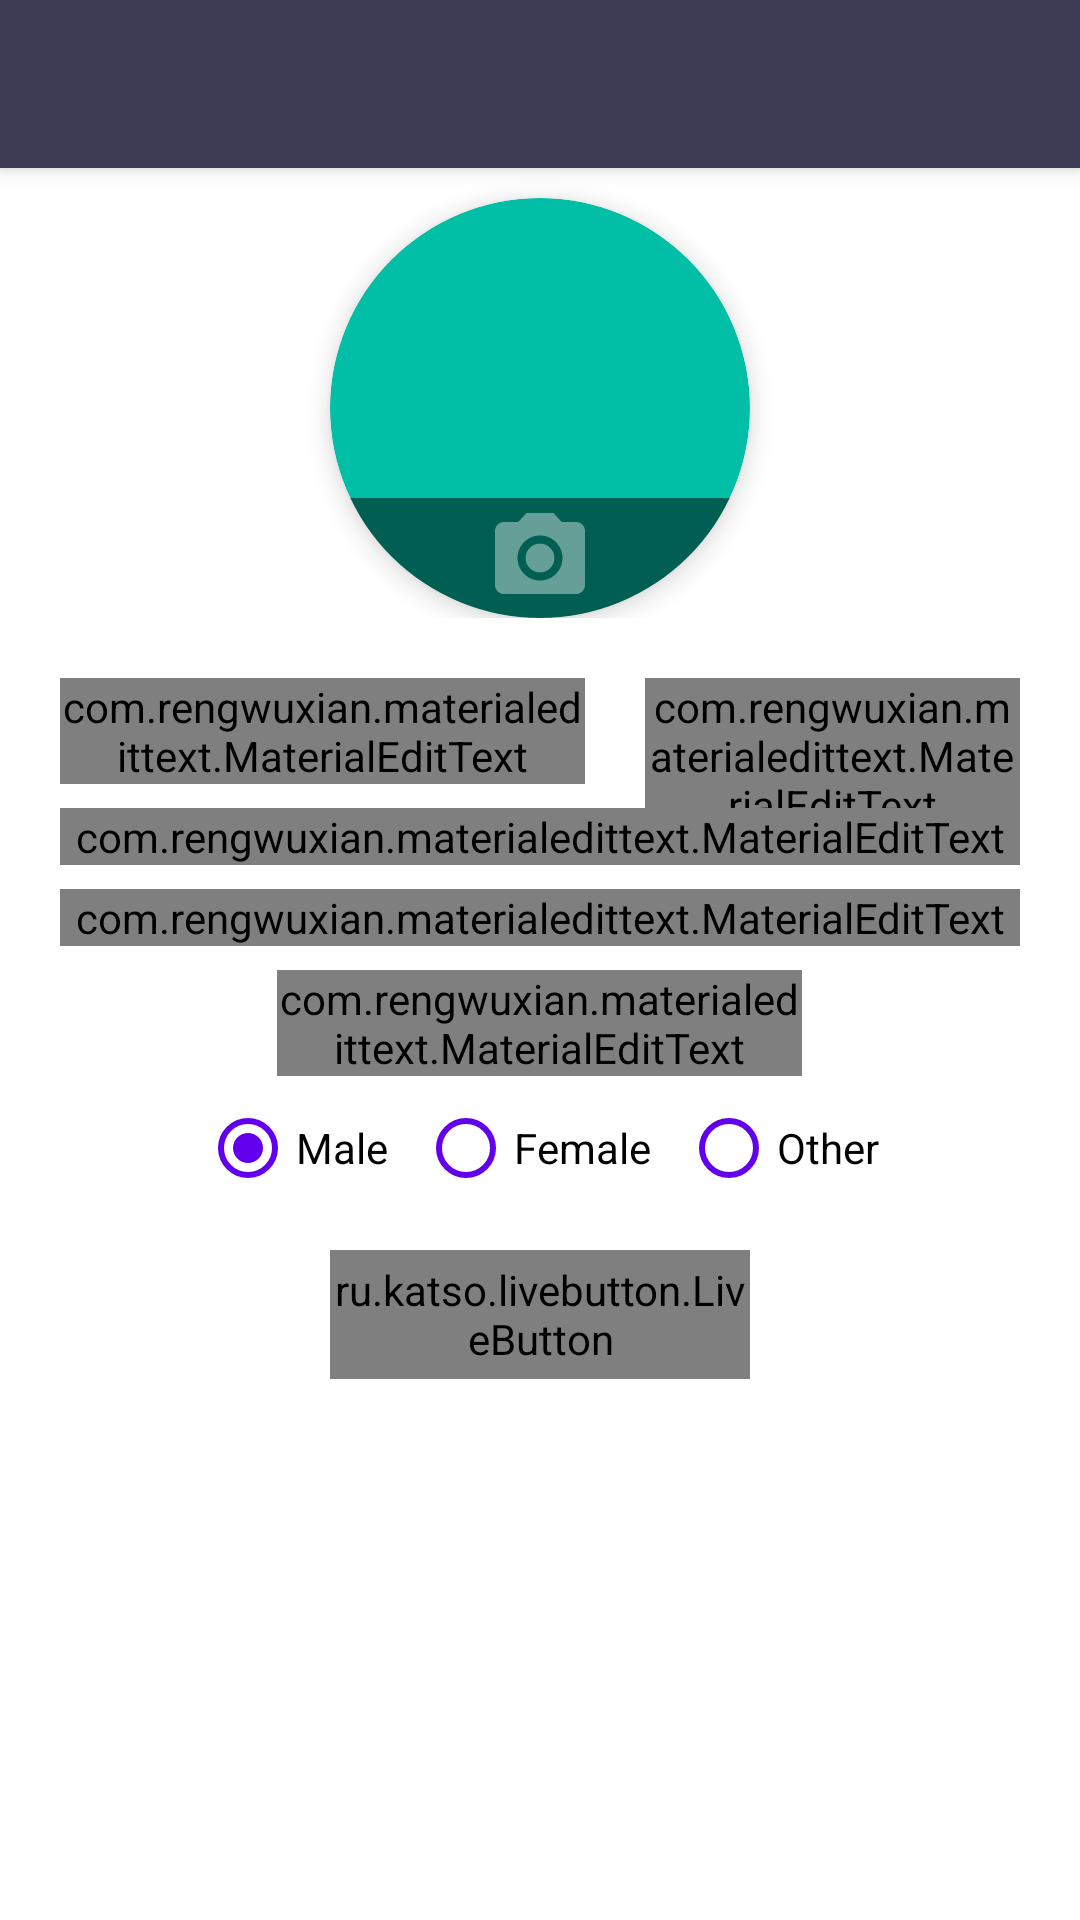

Icons on this 1080px x 1920px Android screen, each with the point to tap as (x=x, y=y):
camera: (x=540, y=553)
